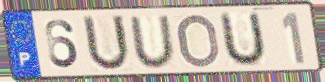1: (281, 11, 306, 66)
6: (44, 19, 81, 71)
O: (176, 12, 222, 69)
U: (80, 14, 133, 74), (127, 14, 179, 70), (219, 10, 268, 69)
